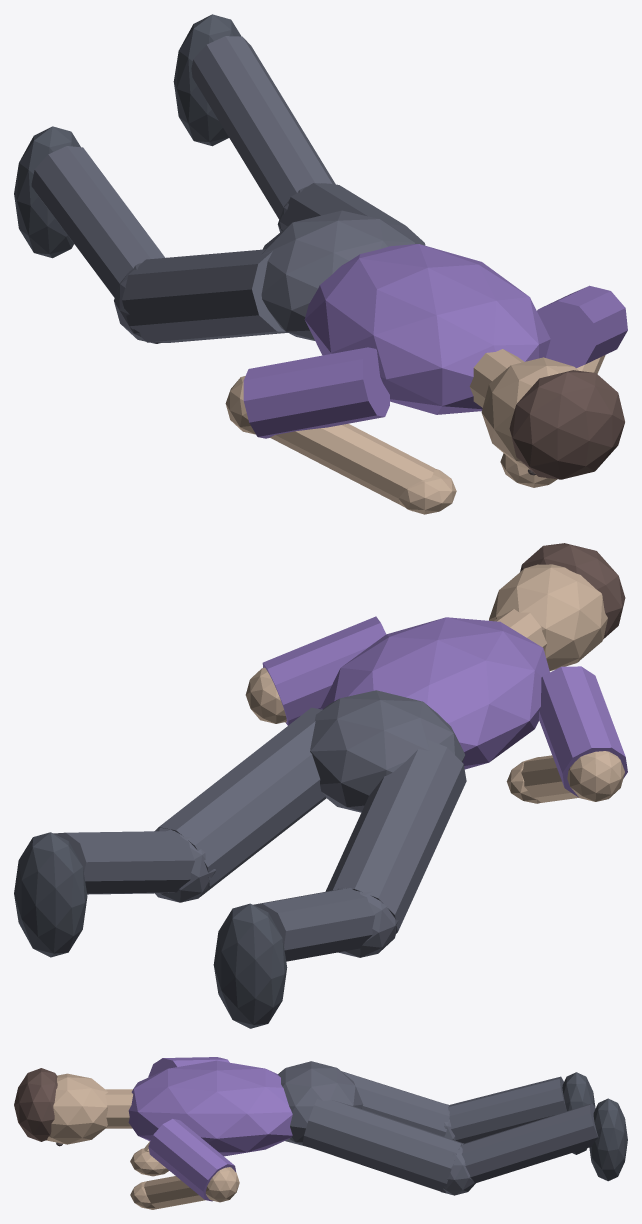
The picture shows the model from 3 angles, top to bottom: view 1: azimuth 30°, elevation 25°; view 2: azimuth 150°, elevation 25°; view 3: azimuth 270°, elevation 25°; orthographic projection. The views are drawn at different scales.
Parts seen in each view (by area): view 1: world; view 2: world; view 3: world.
Boxes of the visible parts, x1,y1,x2,y2 form: world: [14, 14, 627, 514]; world: [14, 543, 627, 1028]; world: [14, 1057, 627, 1209].
Size of the model in its own units: 0.93 by 0.44 by 2.01.
